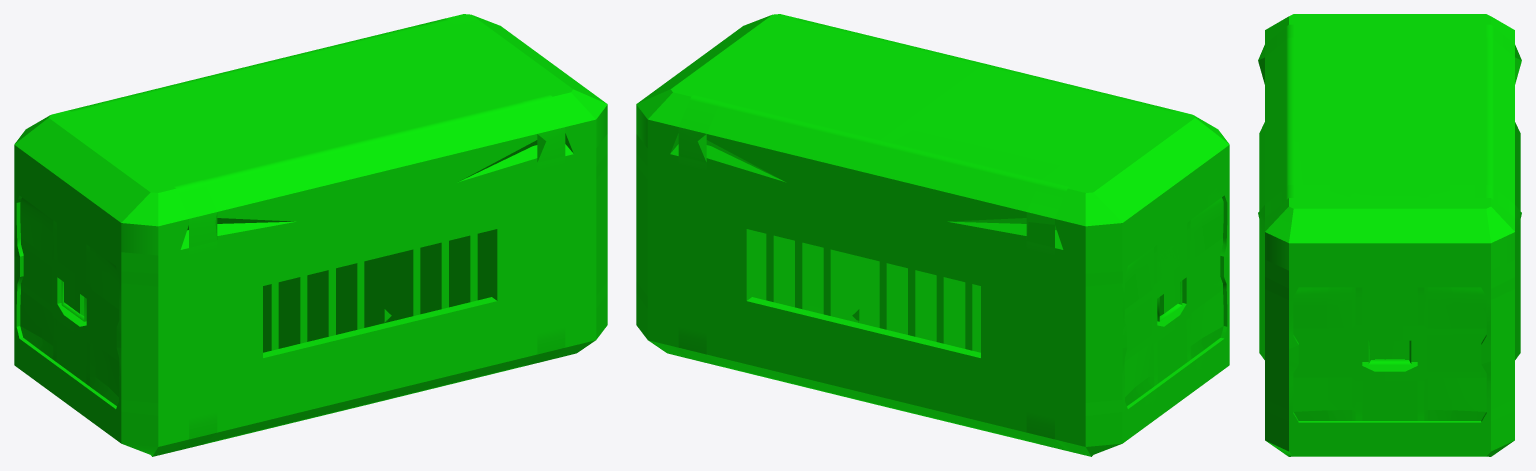
Rendered from Crate.fbx.
3 views of the same model, side by side, from view 1: azimuth 30°, elevation 25°; view 2: azimuth 150°, elevation 25°; view 3: azimuth 270°, elevation 25° (orthographic). The views are drawn at different scales.
Visible parts, largest first — view 1: Crate; view 2: Crate; view 3: Crate.
Part boxes in pixels (x1,y1,x2,y2): Crate: (14, 14, 607, 456); Crate: (636, 14, 1229, 456); Crate: (1258, 14, 1521, 456).
Size of the model in its own units: 2.01 by 1.04 by 1.
